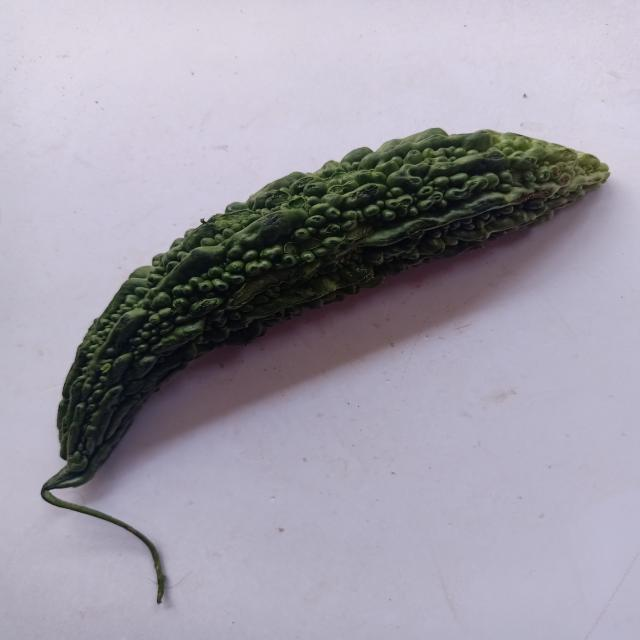Bitter Gourd: (32, 98, 640, 625)
